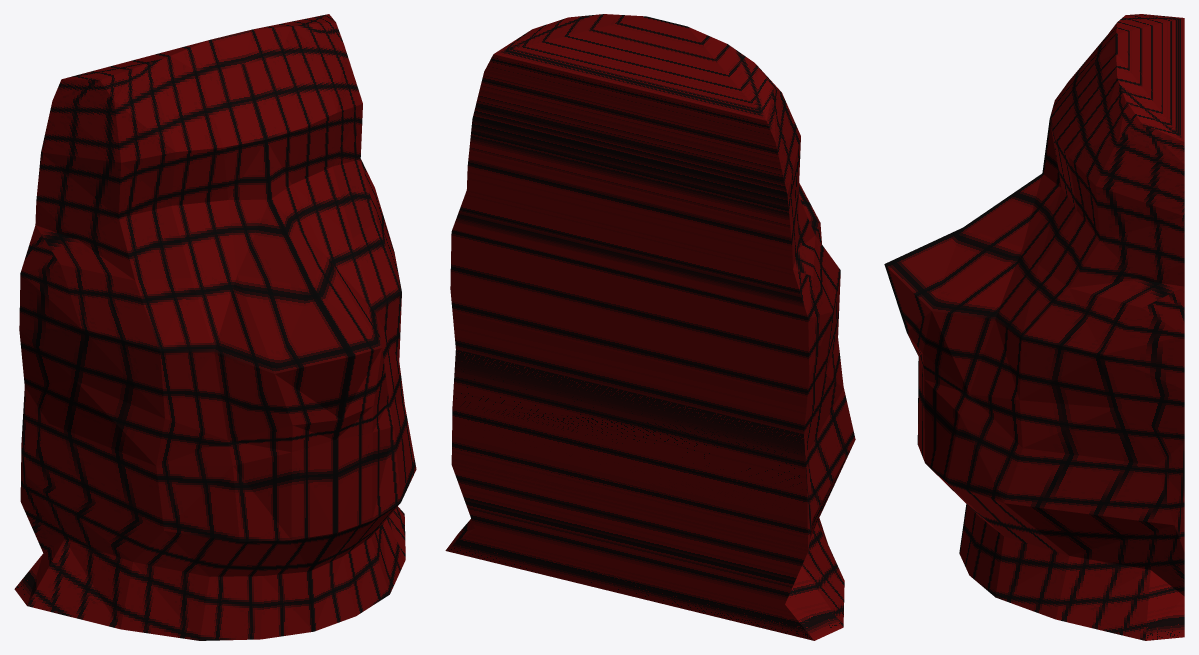
The model's file is doh_collision.glb.
The picture shows the model from 3 angles, left to right: view 1: azimuth 30°, elevation 25°; view 2: azimuth 150°, elevation 25°; view 3: azimuth 270°, elevation 25°; orthographic projection. The views are drawn at different scales.
Parts seen in each view (by area): view 1: Plane.001; view 2: Plane.001; view 3: Plane.001.
Part boxes in pixels (bbox=[...]): Plane.001: bbox=[14, 14, 416, 640]; Plane.001: bbox=[445, 14, 855, 640]; Plane.001: bbox=[884, 14, 1184, 640].
Size of the model in its own units: 1.4 by 1.9 by 1.01.
1 material, 1 textured.
